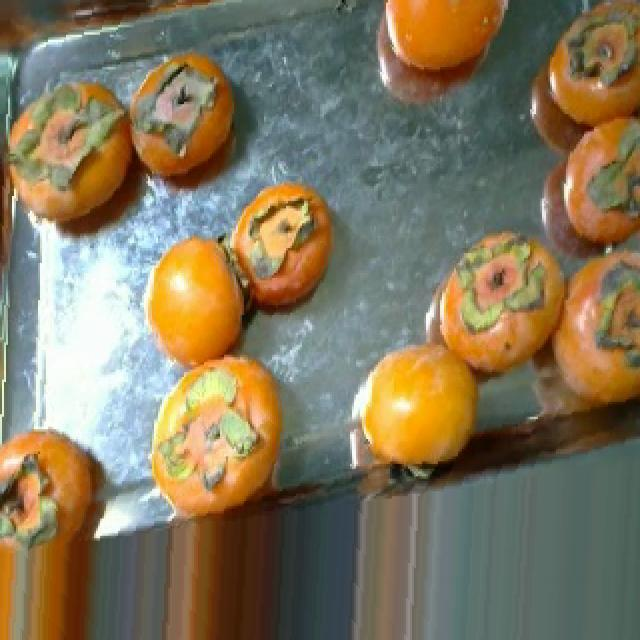Fruit: (342, 320, 496, 494), (144, 481, 284, 640), (356, 0, 528, 129), (132, 221, 260, 387), (228, 166, 350, 330), (144, 44, 260, 204), (448, 216, 548, 330), (598, 236, 640, 370)
